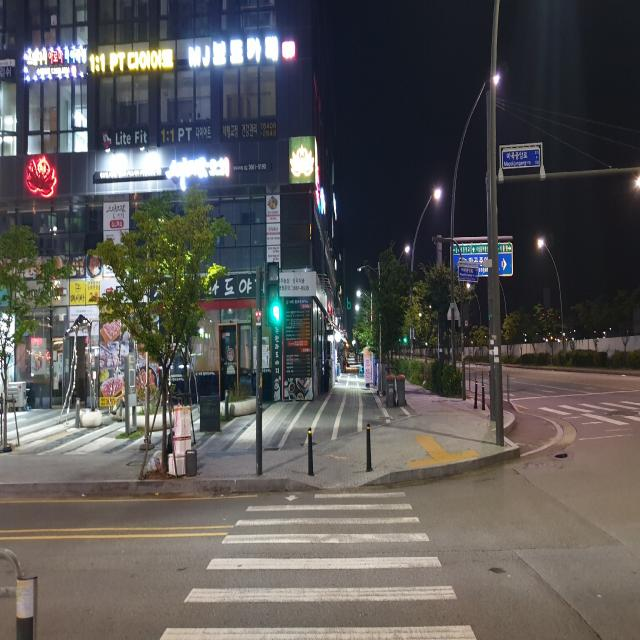초록불: (267, 259, 281, 331)
횡단보도: (156, 490, 478, 639)
